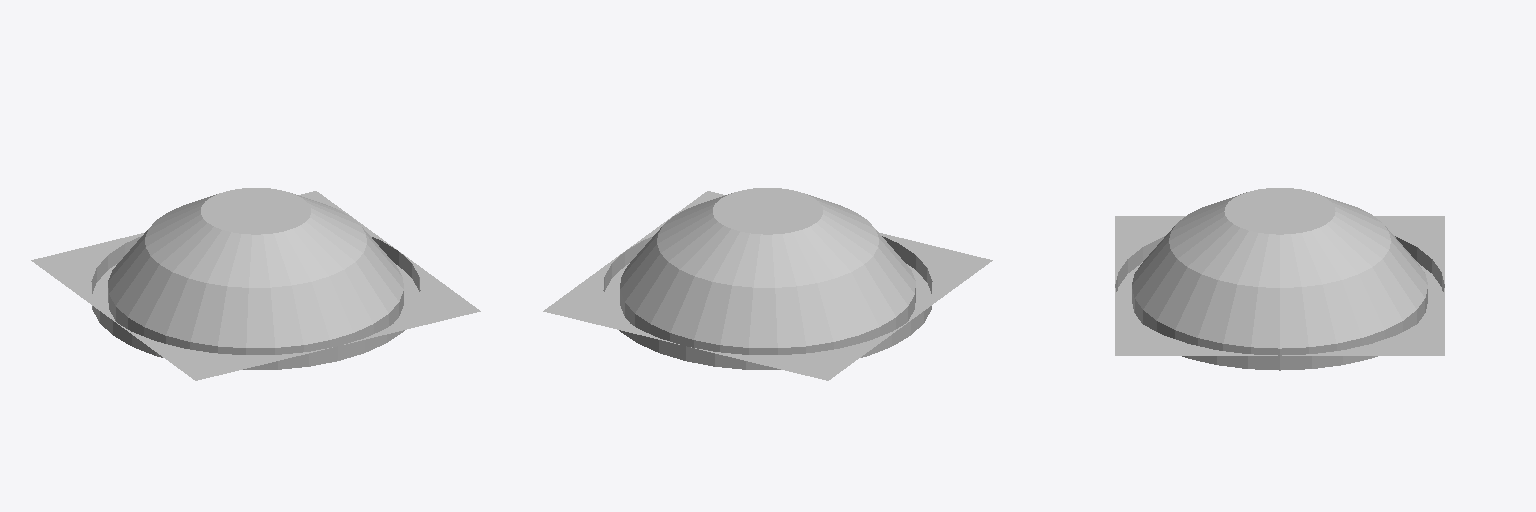
File: Ceiling_basic.obj
The picture shows the model from 3 angles: view 1: azimuth 30°, elevation 25°; view 2: azimuth 150°, elevation 25°; view 3: azimuth 270°, elevation 25°; orthographic projection.
Visible parts, largest first — view 1: Cube.001; view 2: Cube.001; view 3: Cube.001.
Part boxes in pixels (x1,y1,x2,y2): Cube.001: (31, 188, 480, 380); Cube.001: (543, 188, 992, 380); Cube.001: (1115, 188, 1444, 370).
Bounding box in the file's own units: 0.2 × 0.06 × 0.2.